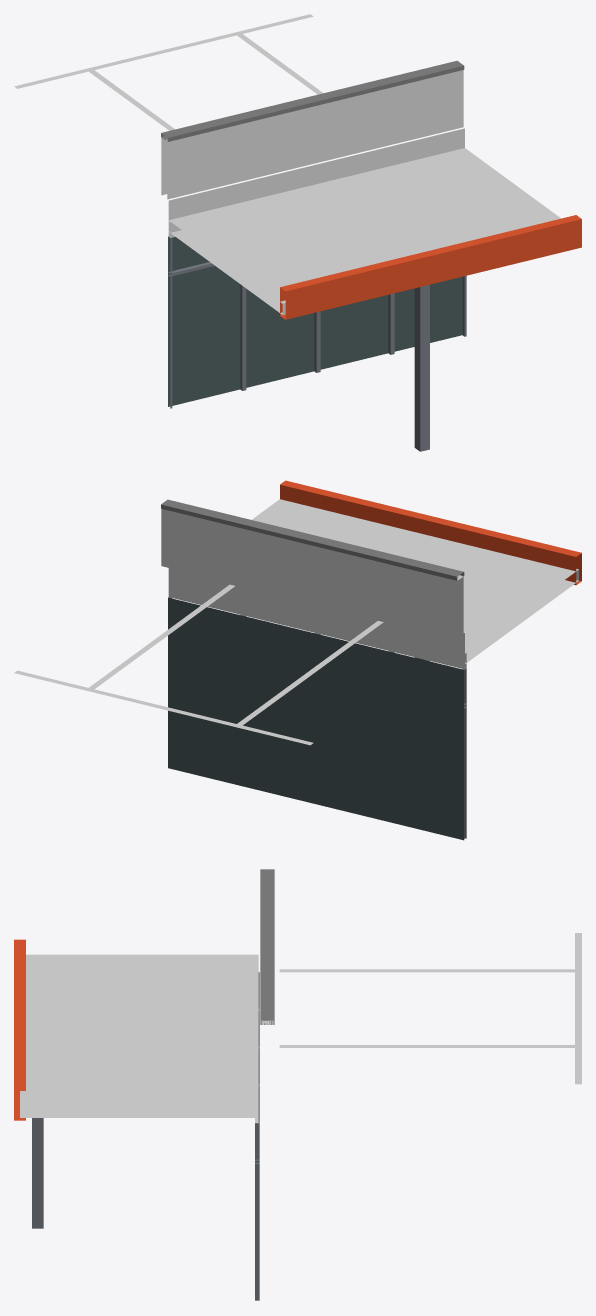
The picture shows the model from 3 angles, top to bottom: view 1: azimuth 30°, elevation 25°; view 2: azimuth 150°, elevation 25°; view 3: azimuth 270°, elevation 25°; orthographic projection. The views are drawn at different scales.
Visible parts, largest first — view 1: a2008/0/base-w1; view 2: a2008/0/base-w1; view 3: a2008/0/base-w1.
Boxes of the visible parts, <box> form: a2008/0/base-w1: <box>14,14,581,451</box>; a2008/0/base-w1: <box>14,480,581,840</box>; a2008/0/base-w1: <box>14,869,581,1300</box>.
Size of the model in its own units: 6 by 5.2 by 9.52.
